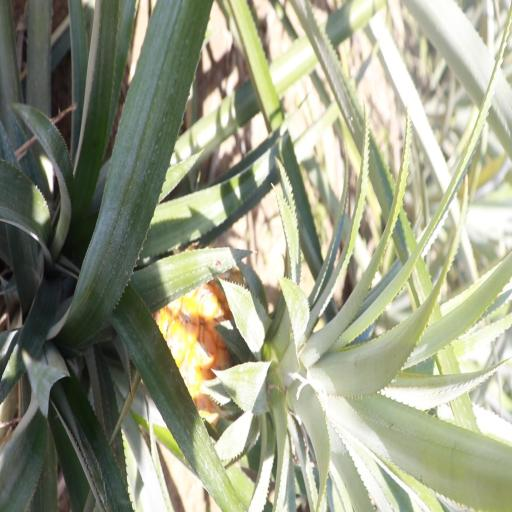Pineapple - v8 v1: (149, 255, 385, 462)
